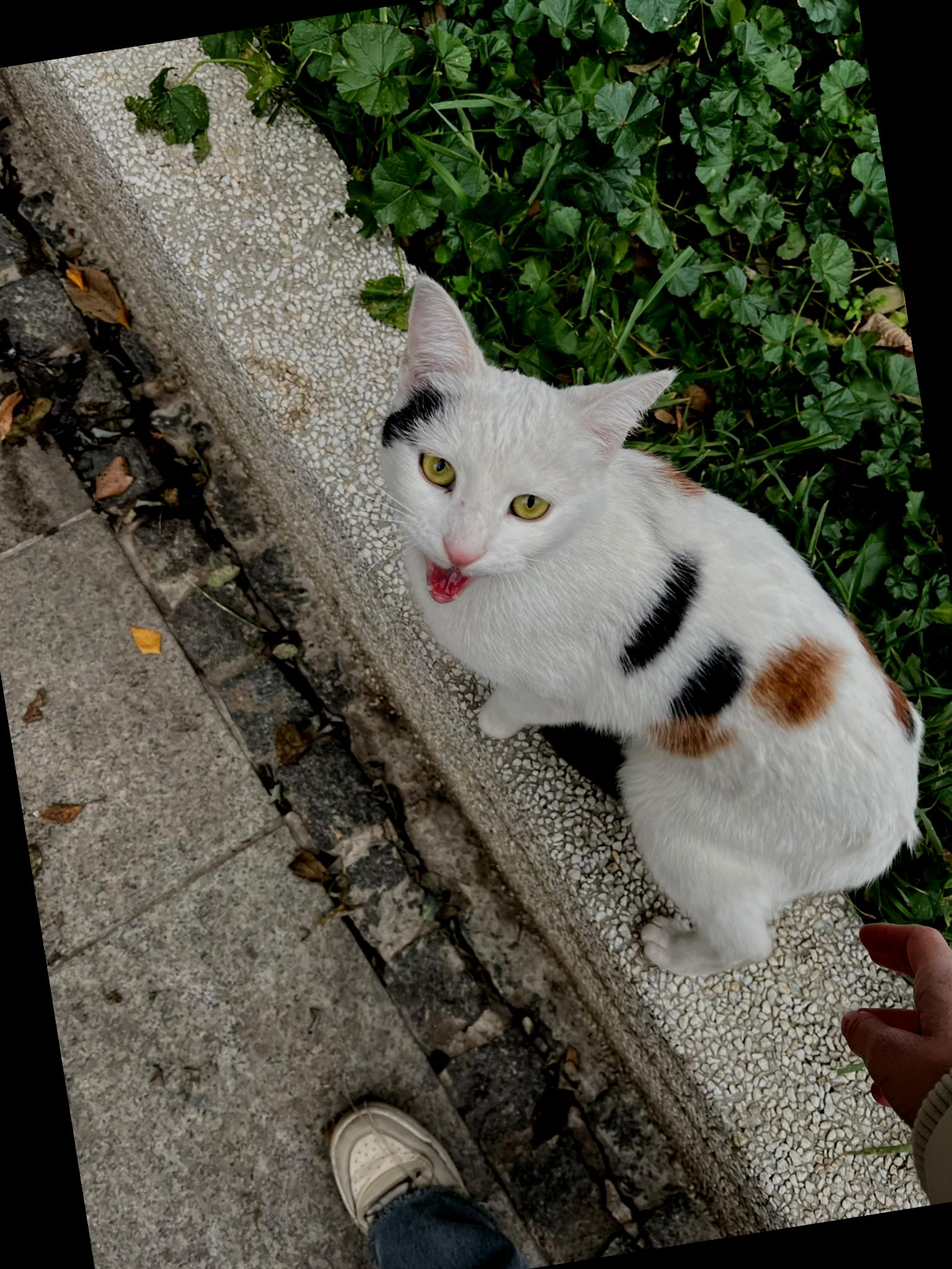macka: (339, 191, 952, 1015)
